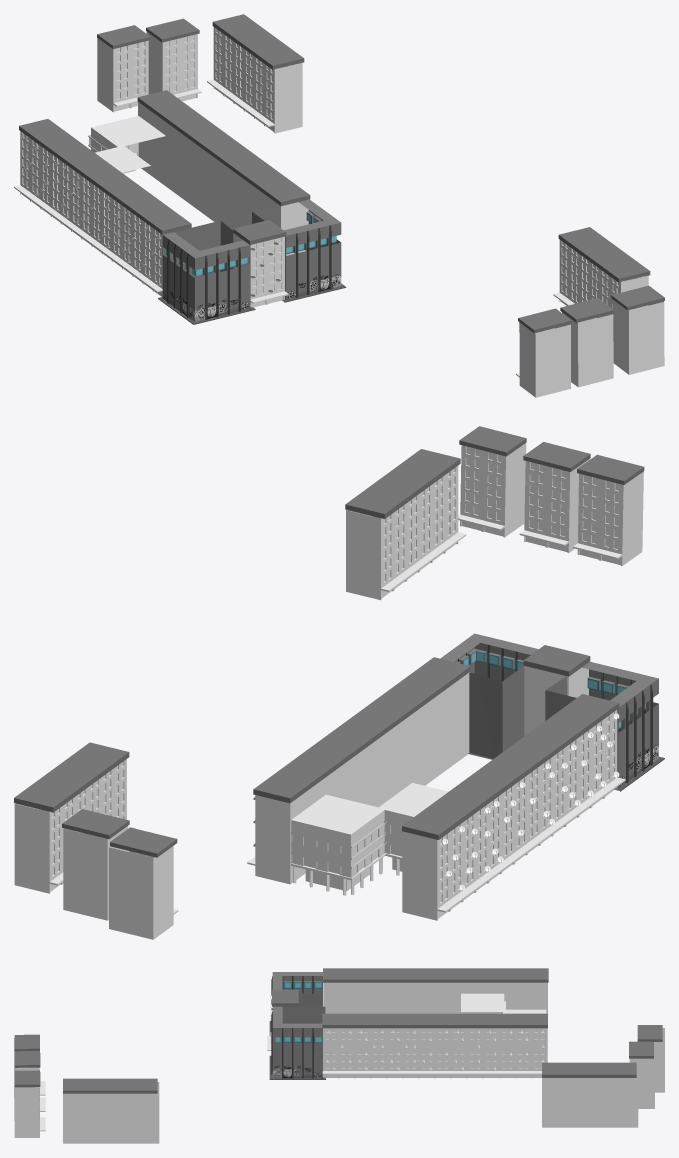
The model's file is BigBuildingBlock.obj.
3 renders of one model, top to bottom at view 1: azimuth 30°, elevation 25°; view 2: azimuth 150°, elevation 25°; view 3: azimuth 270°, elevation 25°, orthographic. The views are drawn at different scales.
Parts seen in each view (by area): view 1: BigBuildingBlock; view 2: BigBuildingBlock; view 3: BigBuildingBlock.
Boxes of the visible parts, bbox=[...] form: BigBuildingBlock: bbox=[14, 14, 664, 397]; BigBuildingBlock: bbox=[14, 426, 664, 939]; BigBuildingBlock: bbox=[14, 968, 664, 1143].
Bounding box in the file's own units: 52.93 × 10.93 × 116.
